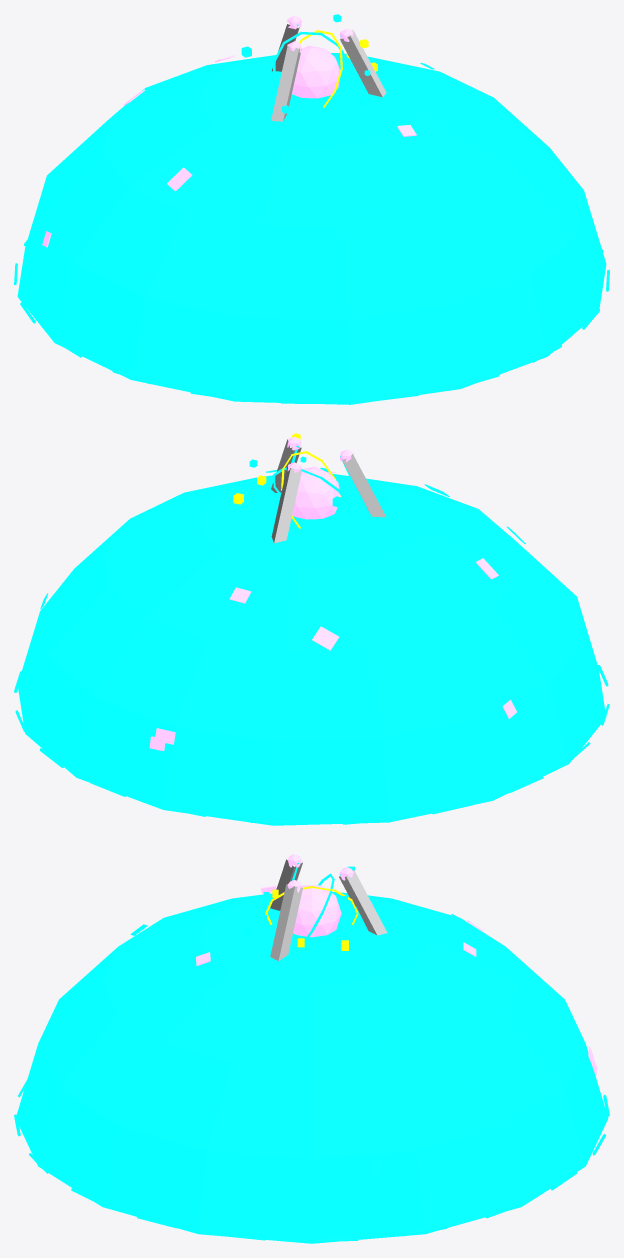
File: CloakFieldGenerator.fbx
3 views of the same model, one above another, from view 1: azimuth 30°, elevation 25°; view 2: azimuth 150°, elevation 25°; view 3: azimuth 270°, elevation 25° (orthographic).
Visible parts, largest first — view 1: Cloak_FieldDome, Cloak_GlitchCore, Cloak_FieldEdge, Cloak_Fin2, Cloak_Fin1; view 2: Cloak_FieldDome, Cloak_GlitchCore, Cloak_FieldEdge, Cloak_Fin0, Cloak_Fin1; view 3: Cloak_FieldDome, Cloak_GlitchCore, Cloak_FieldEdge, Cloak_Fin2, Cloak_Fin0, Cloak_Fin1.
Boxes of the visible parts, x1,y1,x2,y2 form: Cloak_FieldDome: (17,53,606,404); Cloak_GlitchCore: (292,45,340,98); Cloak_FieldEdge: (14,240,609,404); Cloak_Fin2: (340,30,386,97); Cloak_Fin1: (271,46,301,121); Cloak_FieldDome: (18,473,606,825); Cloak_GlitchCore: (292,466,340,519); Cloak_FieldEdge: (14,665,609,825); Cloak_Fin0: (271,466,301,543); Cloak_Fin1: (340,454,386,517); Cloak_FieldDome: (16,892,608,1243); Cloak_GlitchCore: (293,885,341,937); Cloak_FieldEdge: (14,1080,609,1242); Cloak_Fin2: (270,884,302,960); Cloak_Fin0: (339,870,387,935); Cloak_Fin1: (270,858,302,910).
Bounding box in the file's own units: 2.21 × 1.03 × 2.21.
